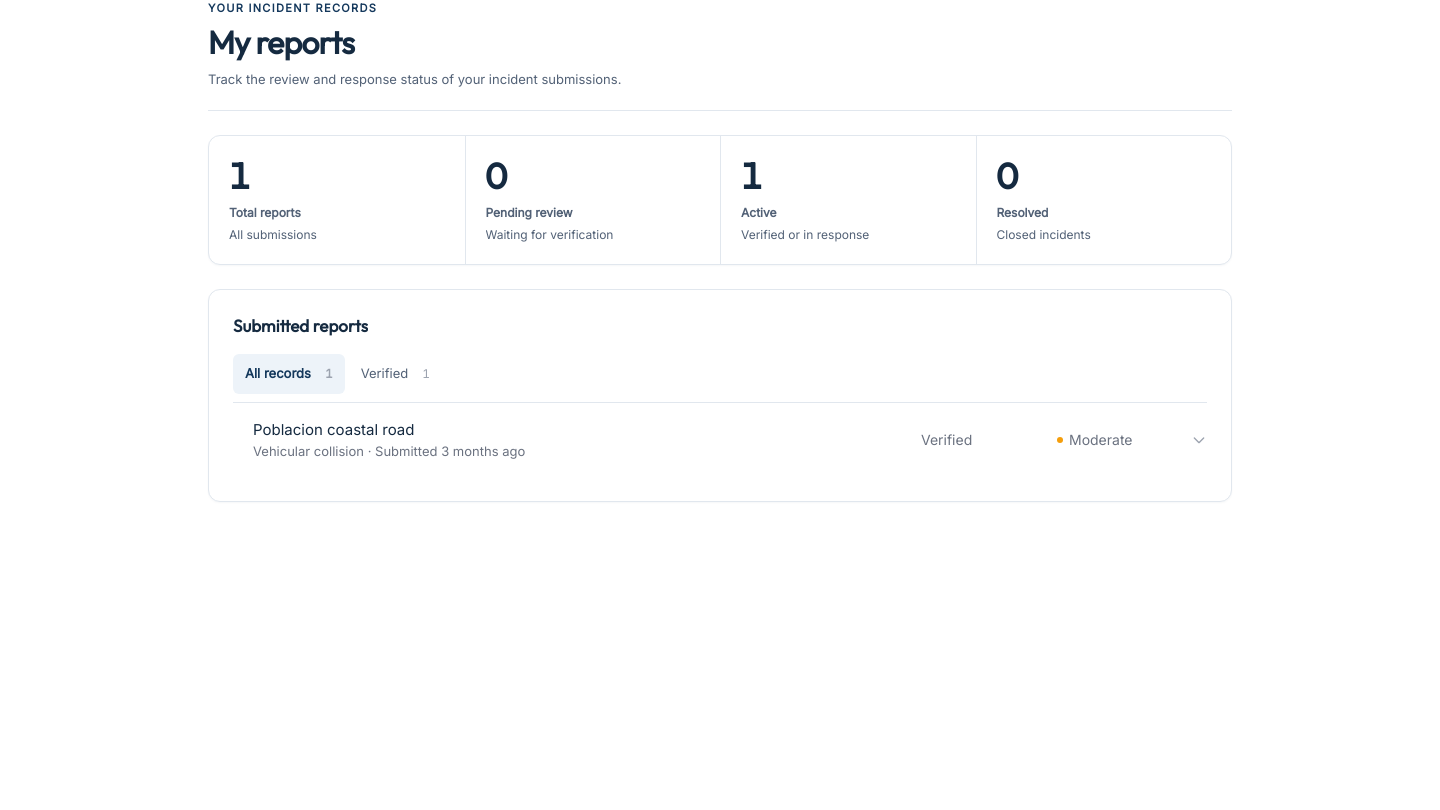
Scenario: reporter situation update flow › confirms a sensitive update and immediately adds the server result to activity
The width and height of the screenshot is (1440, 810).
Click the heading "Poblacion coastal road". click: [334, 429]
box: x1=253 y1=420 x2=414 y2=439
(page scrolled)
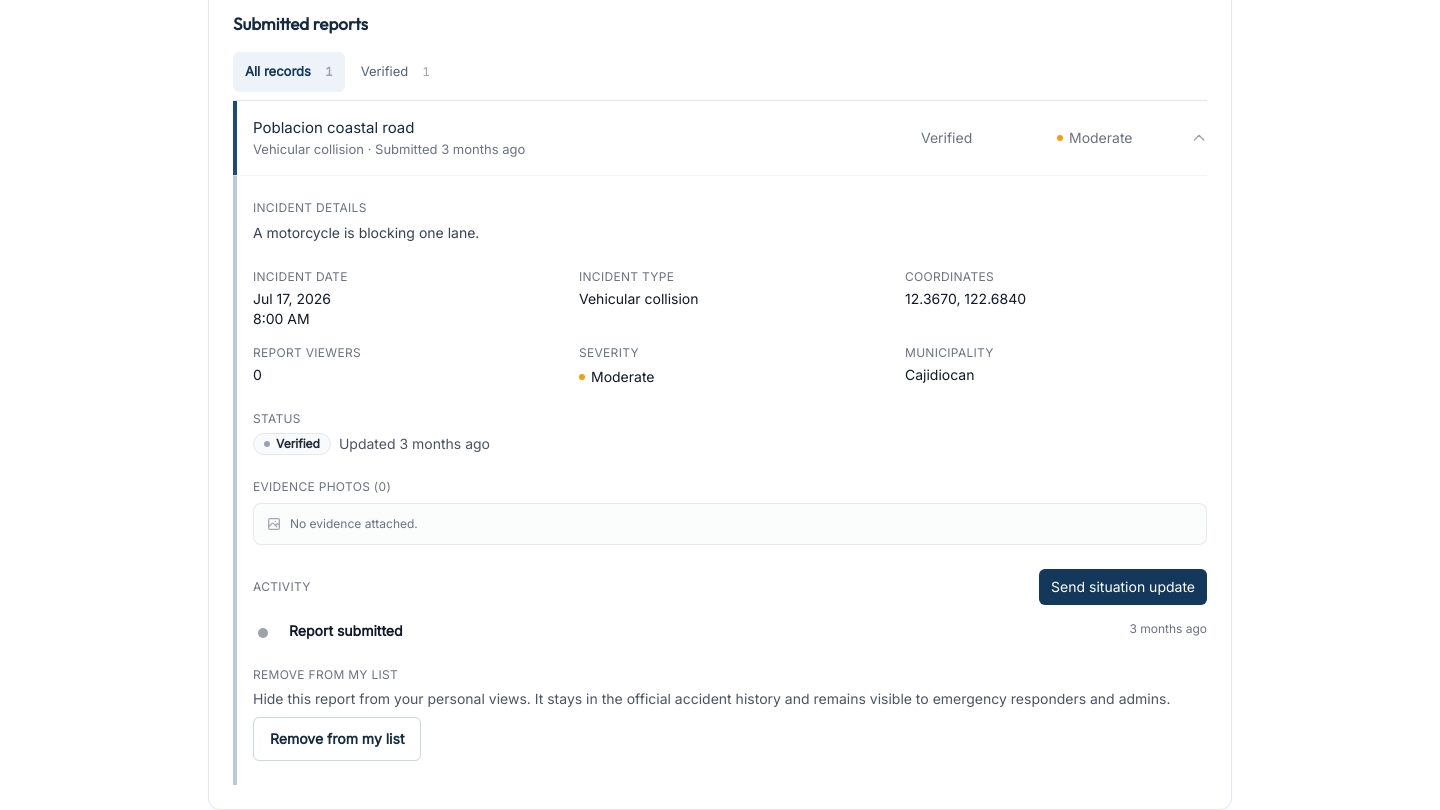
Click the button "Send situation update". click: [1123, 587]
box: x1=1039 y1=569 x2=1207 y2=605
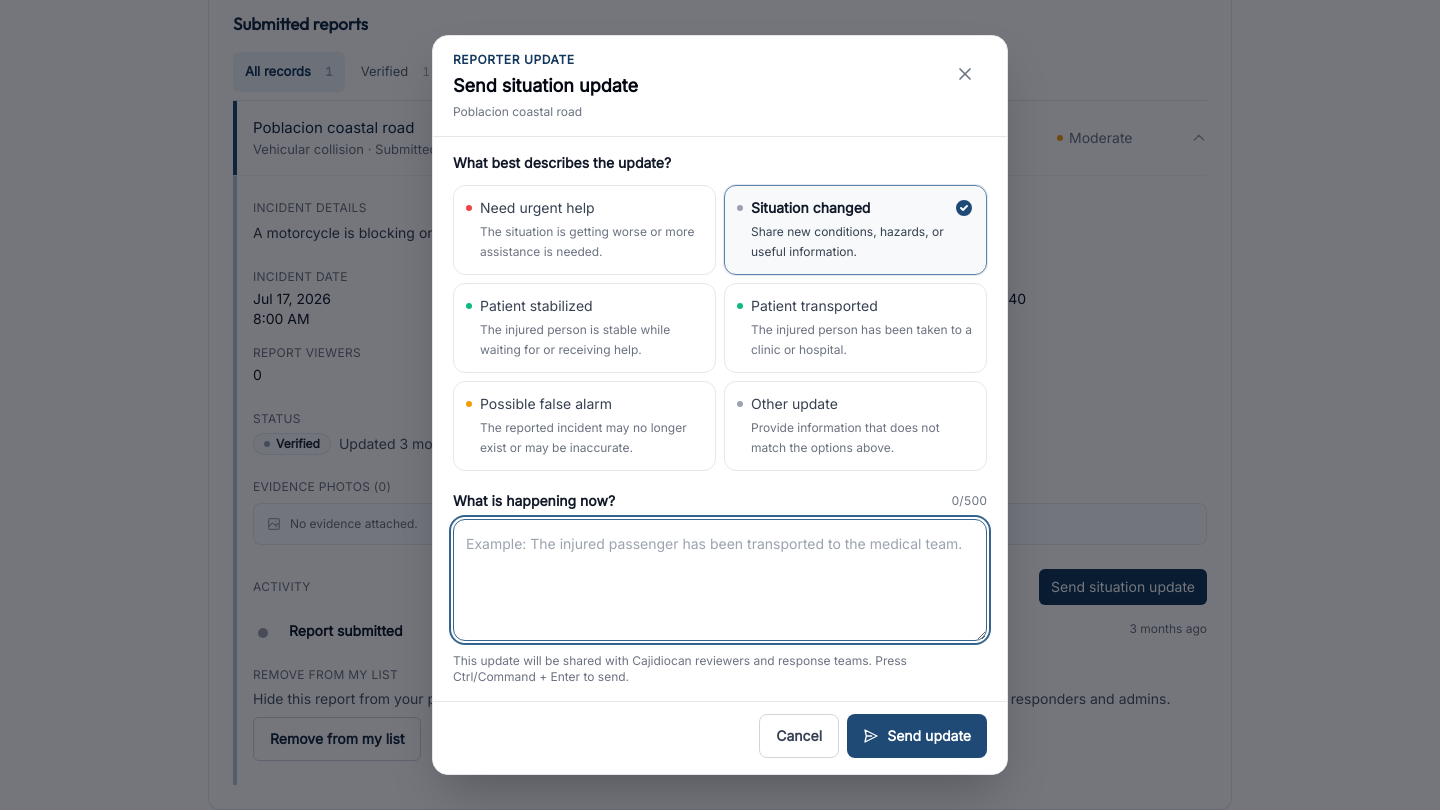
Check: the dialog "Send situation update" is shown, box x1=432 y1=35 x2=1008 y2=775
Click the radio button labelled "Need urgent help". click: [584, 230]
box: x1=453 y1=185 x2=716 y2=275
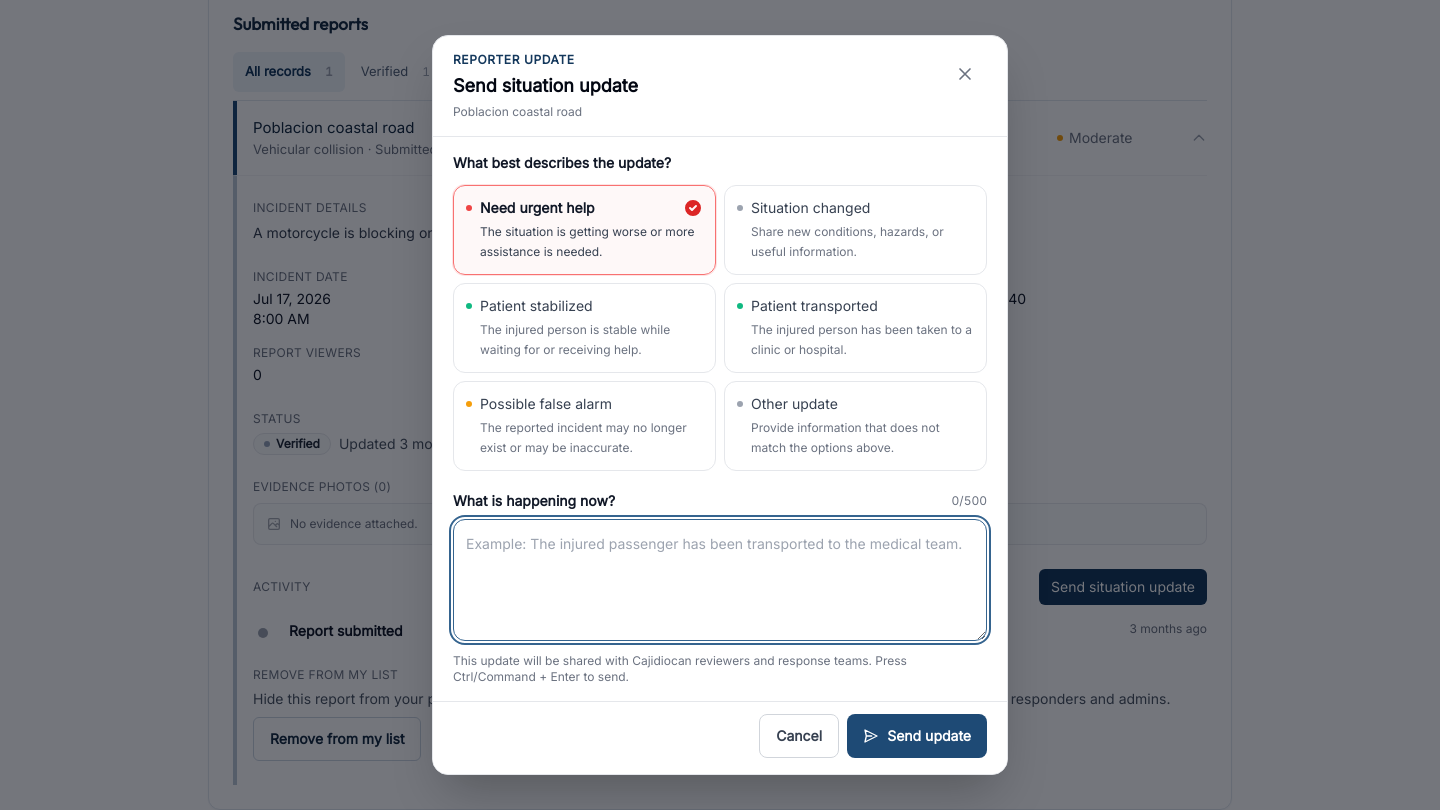
Replace the text in the text box labelled "What is happening now?" with "The patient needs another medical response unit.". click: [720, 580]
box: x1=453 y1=519 x2=987 y2=641
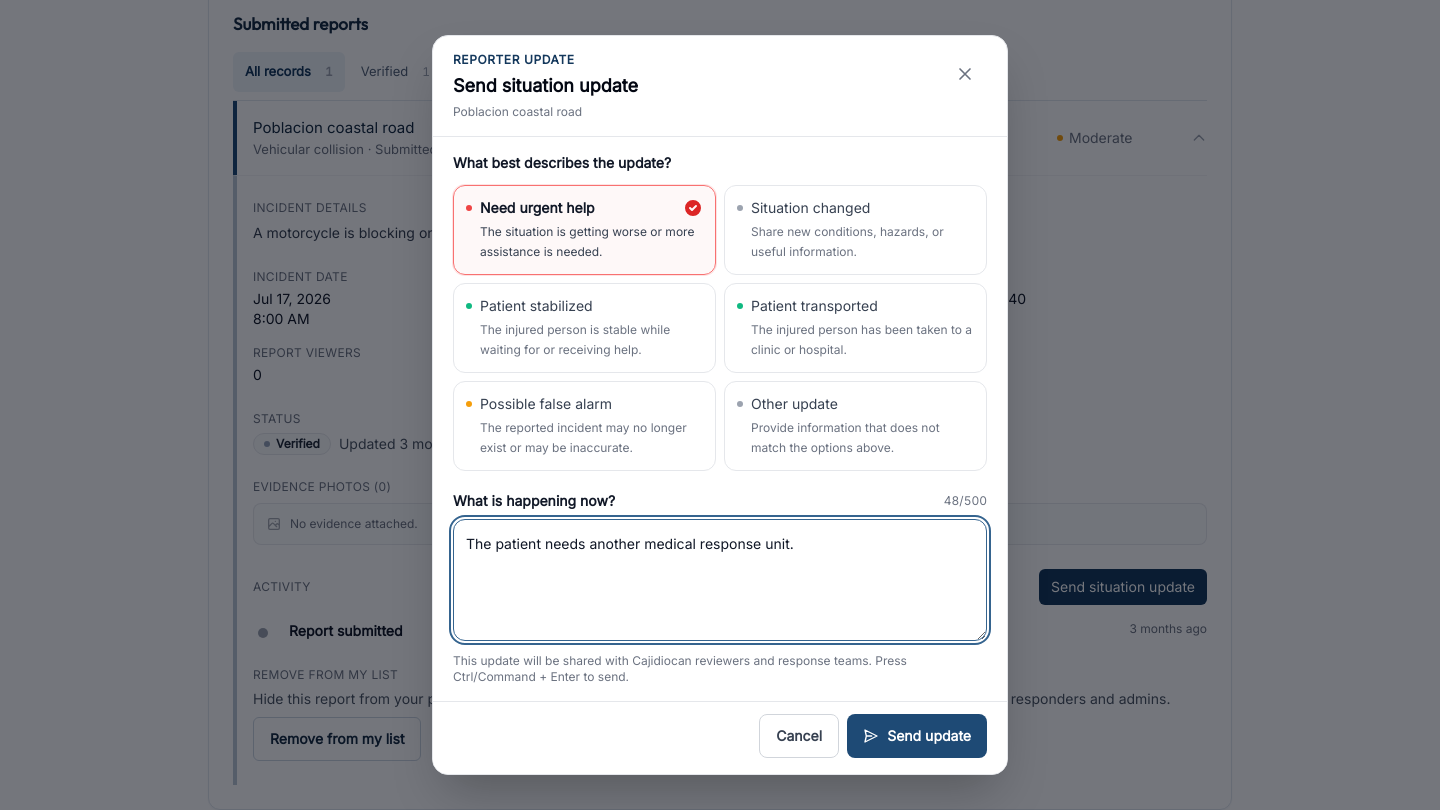
Click the button "Send update". click: [917, 736]
box: x1=847 y1=714 x2=987 y2=758
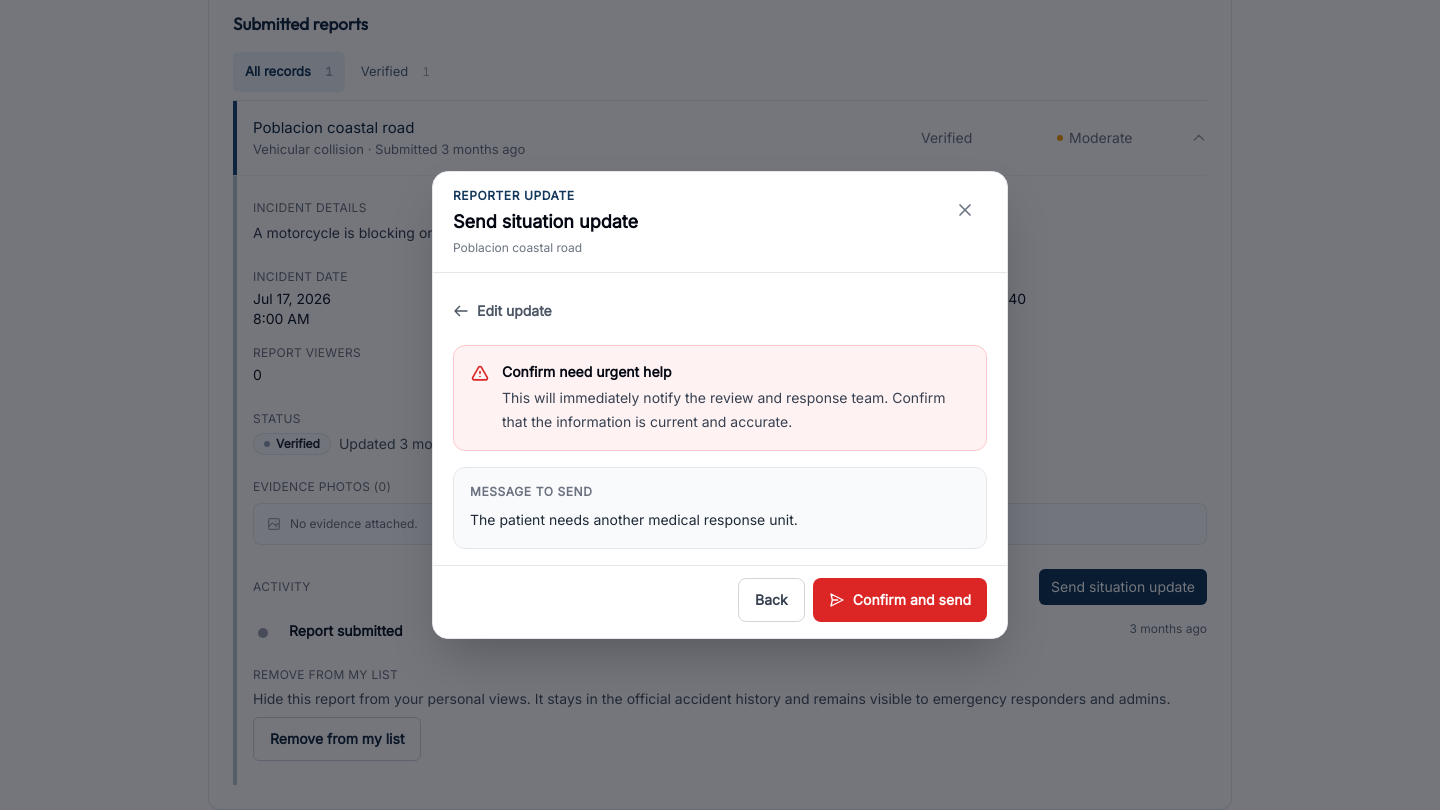
Check: the heading "Confirm need urgent help" is shown, box x1=502 y1=363 x2=672 y2=380
Click the button "Confirm and send". click: [900, 600]
box: x1=813 y1=578 x2=987 y2=622
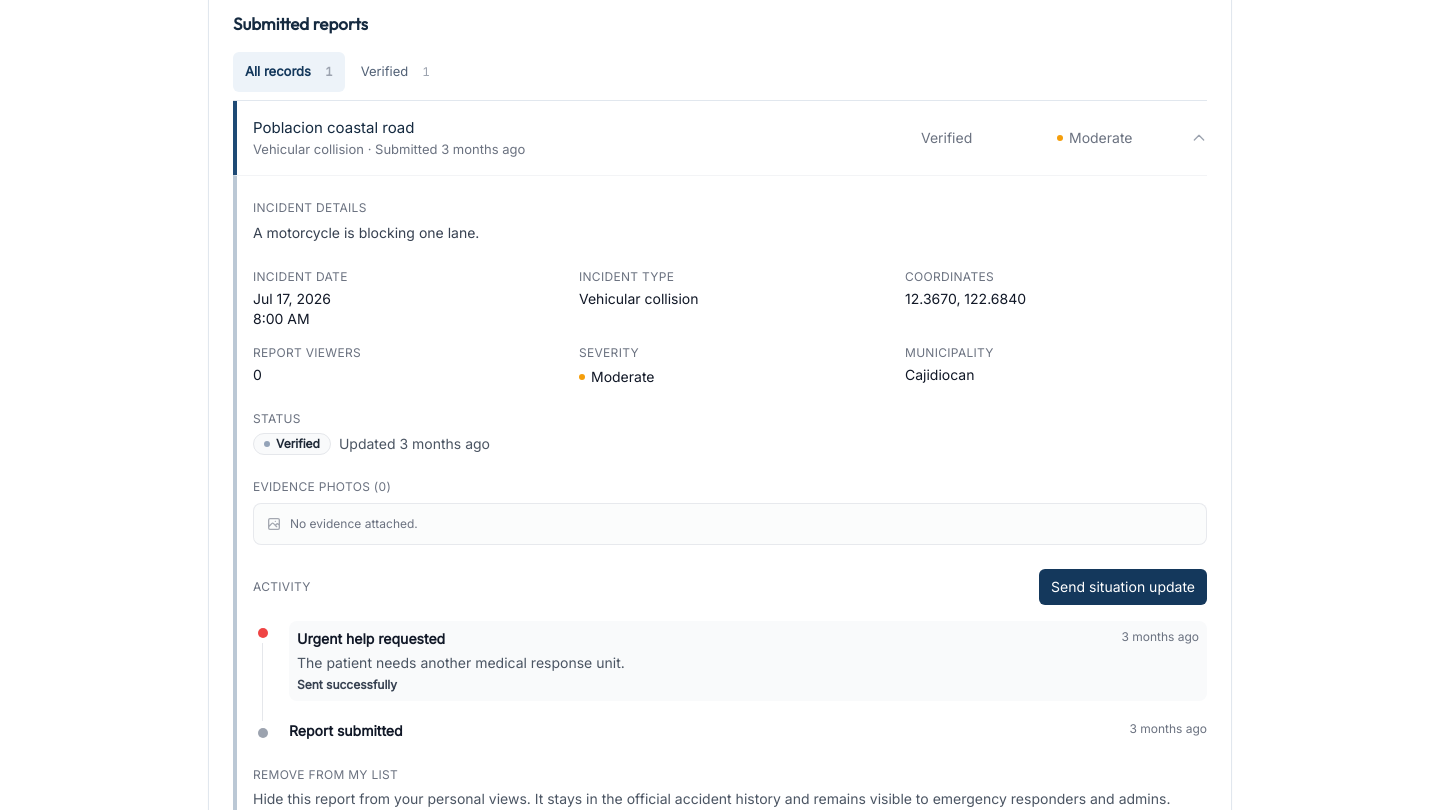
Check: the text "The patient needs another medical response unit." is shown, box x1=297 y1=654 x2=625 y2=671
Check: the text "Sent successfully" is shown, box x1=297 y1=677 x2=397 y2=692
